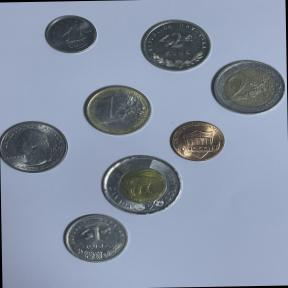1 Euro: (78, 83, 156, 139)
2 Euro: (206, 55, 288, 118)
Canda-10cent-: (42, 12, 100, 58)
Canda-2Dollar-: (100, 153, 186, 217)
Croatia-2Kune-: (138, 16, 215, 74)
US-1cent-: (168, 118, 228, 164)
US-25cent-: (0, 116, 71, 179)
